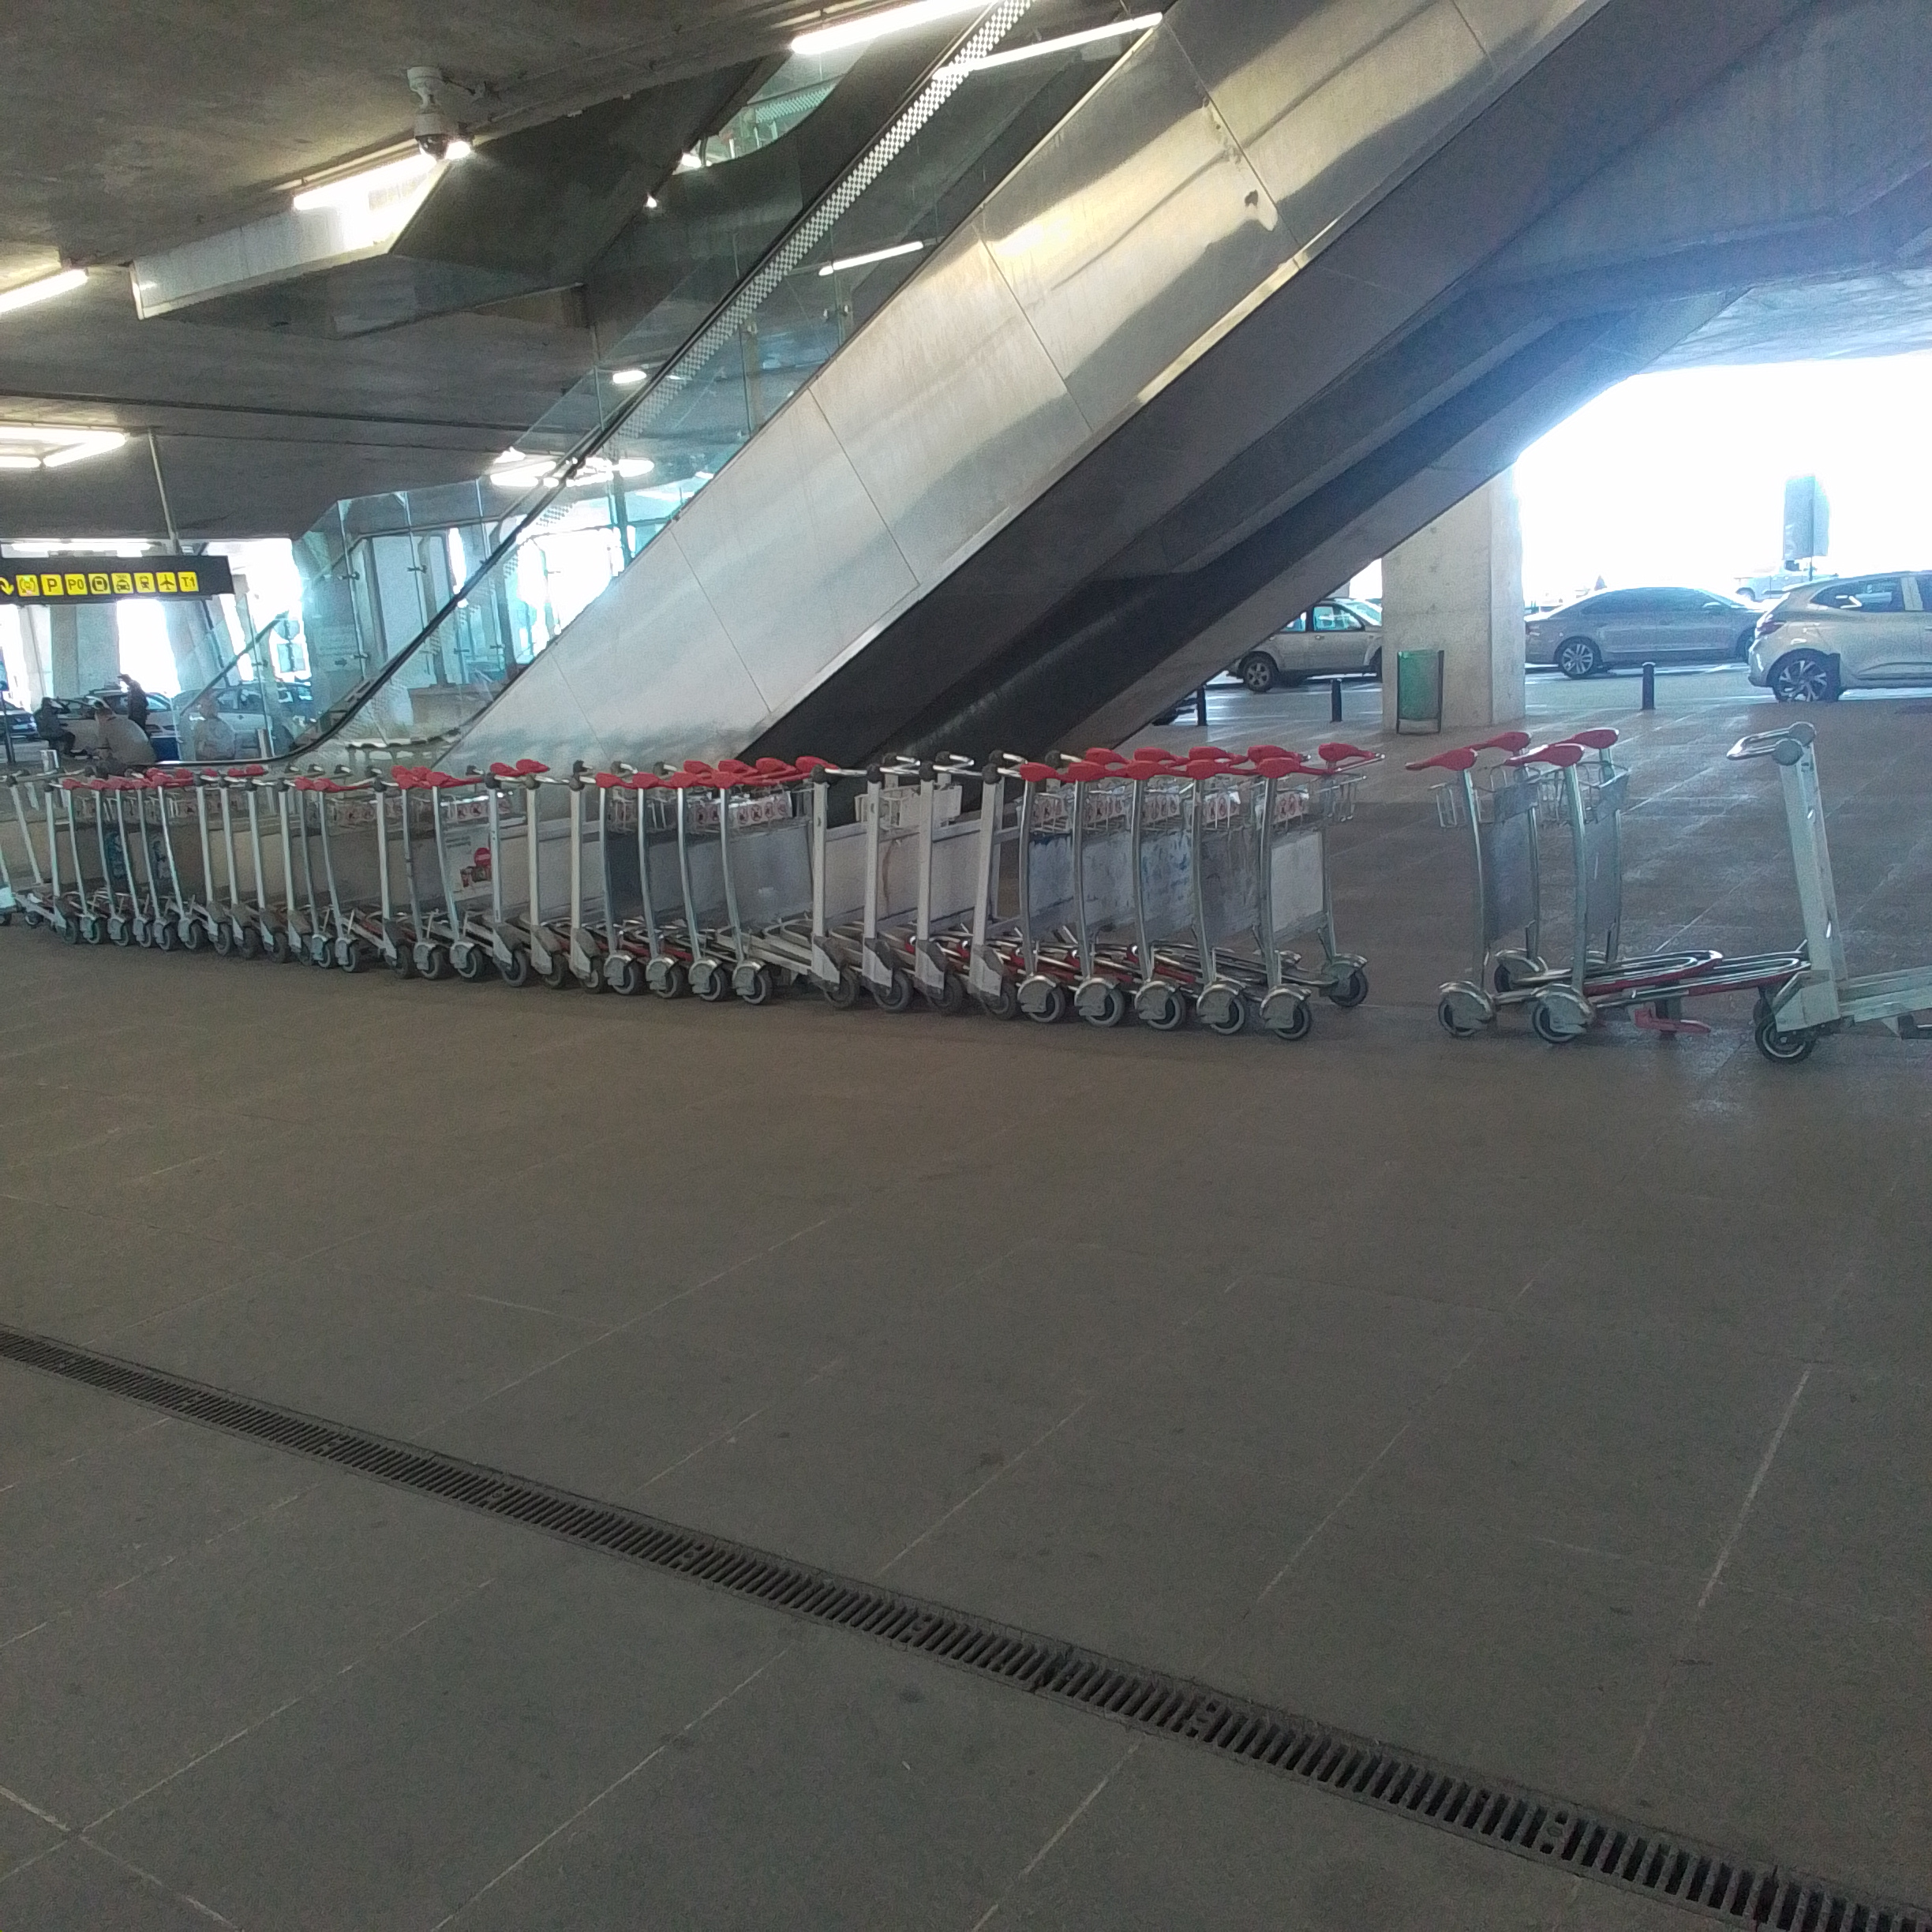airport-trolley: (1516, 722, 1785, 1060), (1711, 725, 1932, 1060), (1422, 731, 1564, 1060), (1253, 740, 1375, 1060), (1168, 740, 1261, 1060), (717, 757, 833, 1001), (1111, 725, 1198, 1033), (1056, 738, 1129, 1031), (908, 752, 973, 1023), (796, 757, 863, 1014), (961, 759, 1024, 1017), (1014, 741, 1069, 1024), (671, 766, 734, 1001), (856, 761, 909, 1023), (626, 771, 686, 996), (2, 773, 83, 936), (315, 775, 382, 971), (389, 768, 449, 982), (428, 770, 488, 980), (589, 768, 644, 998), (513, 773, 570, 982), (472, 770, 527, 984), (366, 768, 419, 978), (557, 768, 603, 987), (150, 766, 202, 955), (186, 770, 234, 961), (241, 770, 287, 962), (212, 766, 255, 964), (288, 773, 331, 966), (34, 771, 78, 945), (129, 775, 172, 955), (271, 768, 306, 962), (83, 777, 124, 945), (62, 768, 99, 945), (110, 775, 145, 948)
